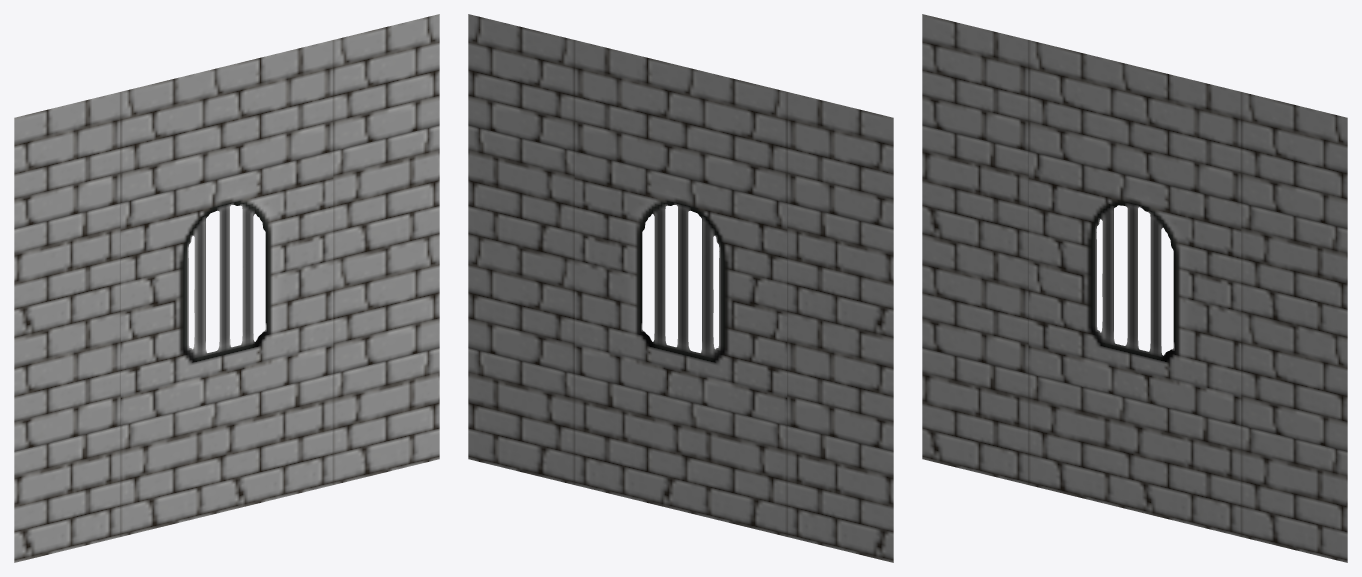
File: StoneWindow.fbx
The picture shows the model from 3 angles, left to right: view 1: azimuth 30°, elevation 25°; view 2: azimuth 150°, elevation 25°; view 3: azimuth 330°, elevation 25°; orthographic projection.
Visible parts, largest first — view 1: window; view 2: window; view 3: window.
Part boxes in pixels (x1,y1,x2,y2): window: [14, 14, 439, 562]; window: [468, 14, 893, 562]; window: [922, 14, 1347, 562].
Size of the model in its own units: 200 by 200 by 4.44e-14.
